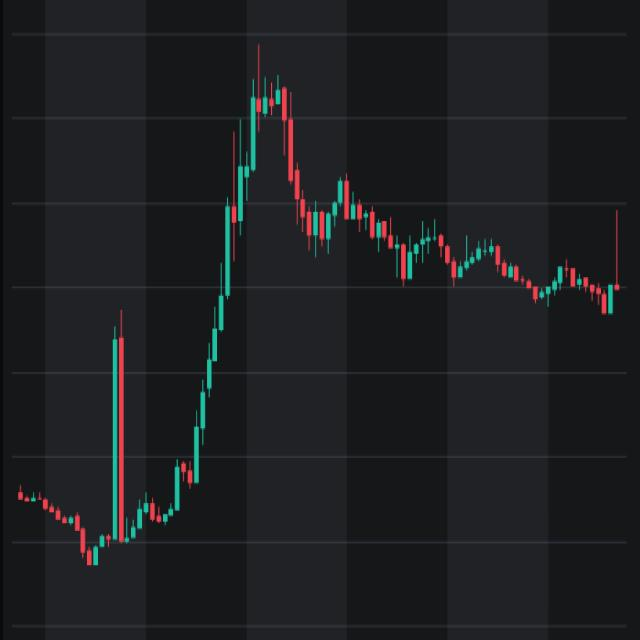Resistance-breakout: (101, 59, 274, 538)
